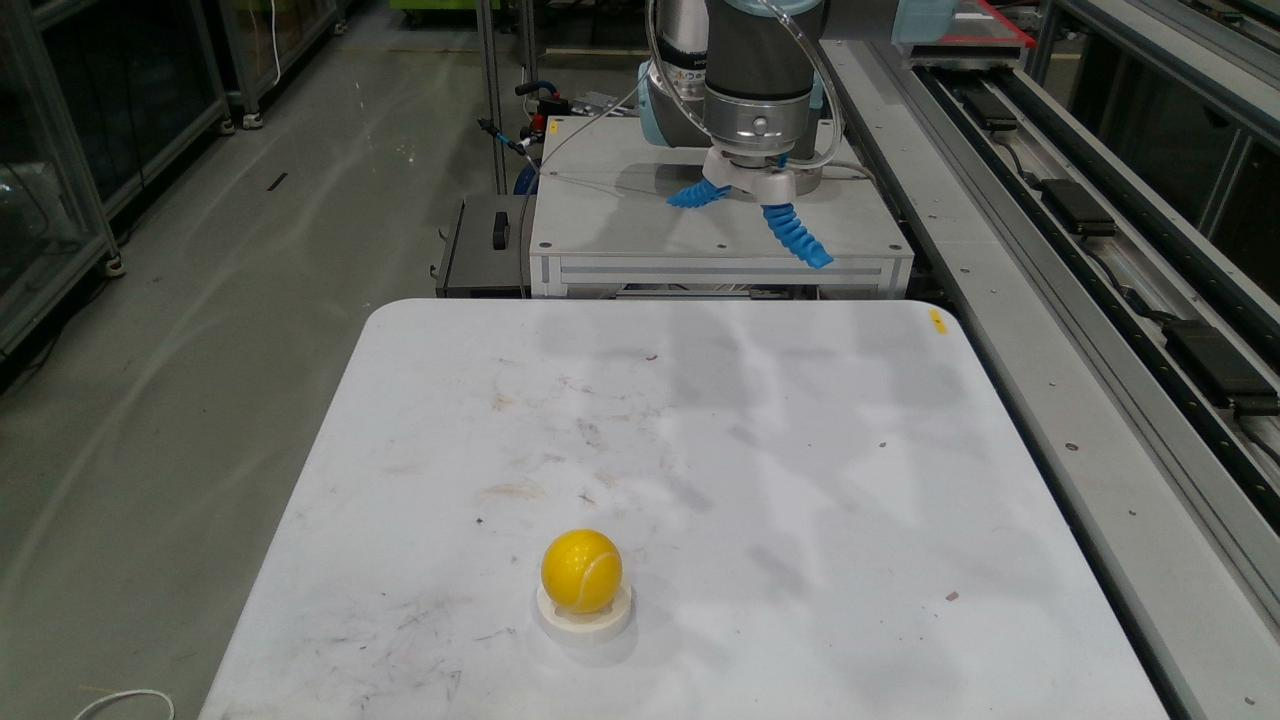UR5: (637, 0, 957, 206)
gripper_left: (667, 177, 730, 209)
gripper_right: (762, 204, 832, 268)
target: (542, 528, 622, 614), (536, 583, 634, 646)
